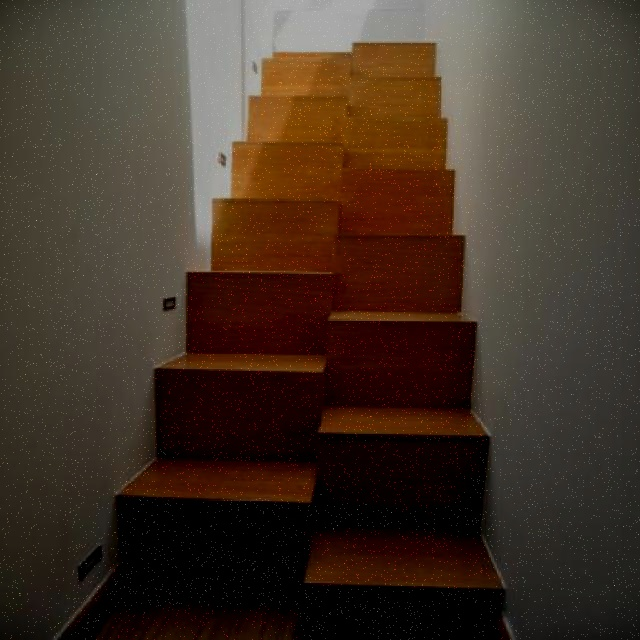stair: (85, 33, 500, 636)
